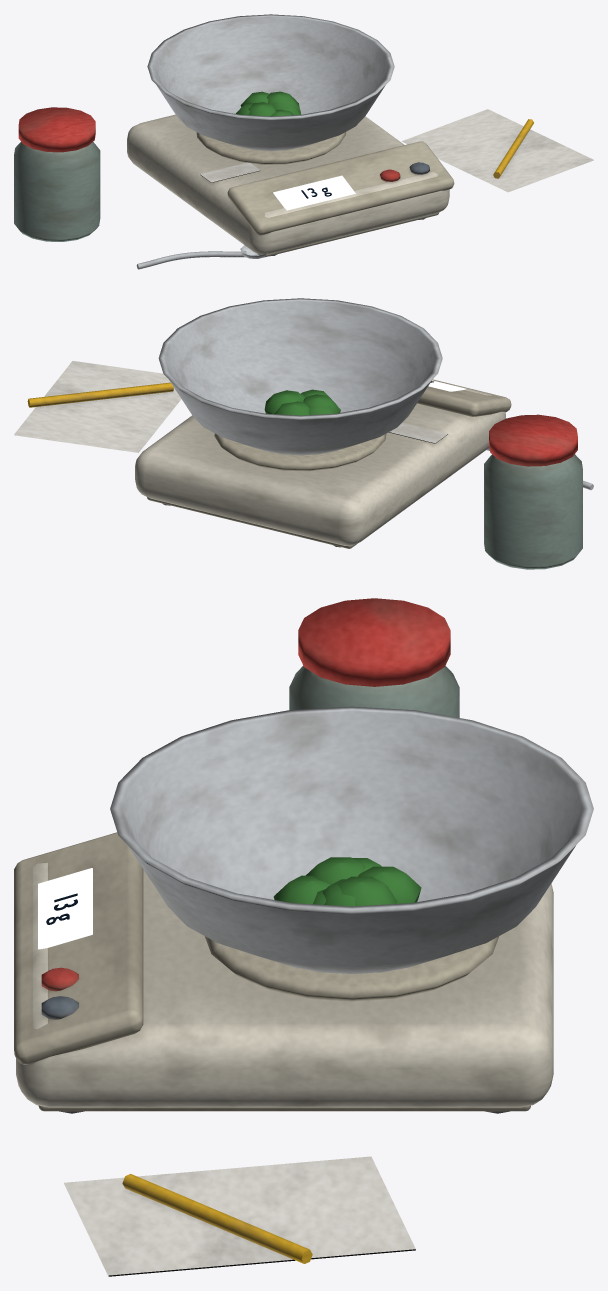
The model's file is waga_kuchenna.glb.
The picture shows the model from 3 angles, top to bottom: view 1: azimuth 30°, elevation 25°; view 2: azimuth 150°, elevation 25°; view 3: azimuth 270°, elevation 25°; orthographic projection. The views are drawn at different scales.
Visible parts, largest first — view 1: Waga, Wyswietlacz, Porcja; view 2: Waga, Porcja; view 3: Waga, Porcja, Wyswietlacz.
Boxes of the visible parts, <box> form: Waga: <box>14,14,593,269</box>; Wyswietlacz: <box>273,175,355,210</box>; Porcja: <box>235,91,301,116</box>; Waga: <box>14,298,593,569</box>; Porcja: <box>264,389,340,415</box>; Waga: <box>14,598,593,1276</box>; Porcja: <box>273,857,421,906</box>; Wyswietlacz: <box>38,868,92,949</box>.
Size of the model in its own units: 0.5109 by 0.11 by 0.2589.
Materials: 4 (1 with a texture image).
